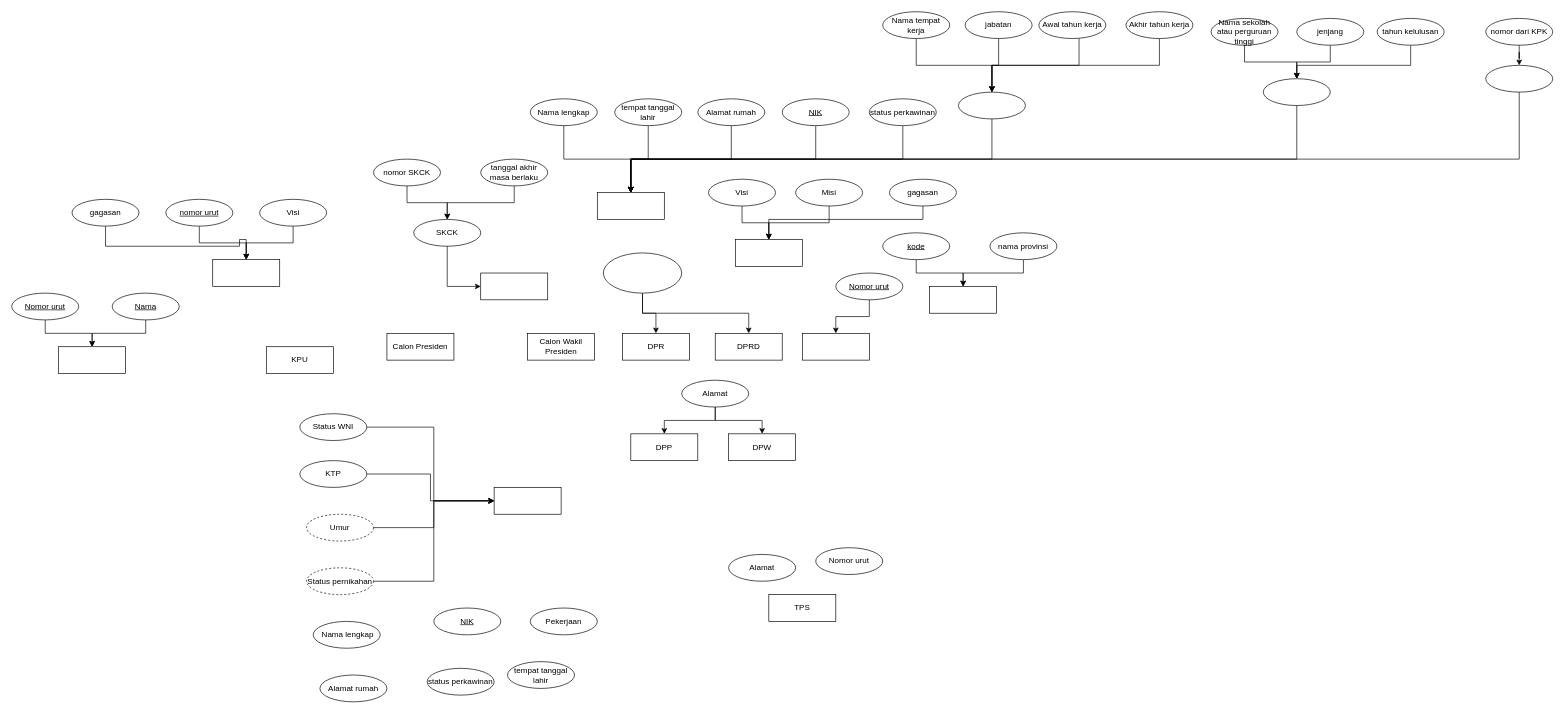
Some shapes in this 1564 by 714 pixel diagram are drawn without their labels. The centre of each missing label's shape, as x and y in pixels:
"Calon kandidat eksekutif" belongs at (514,286).
"Calon kandidat legislatif" belongs at (768,252).
"Dapil" belongs at (963,299).
"DPD" belongs at (835,346).
"Kandidat" belongs at (630,205).
"LHKPN" belongs at (1519,78).
"Partai Politik" belongs at (92,360).
"Paslon" belongs at (246,272).
"Pemilih" belongs at (527,500).
"riwayat pekerjaan" belongs at (991,105).
"riwayat pendidikan" belongs at (1296,92).
"Surat keterangan anggota partai politik" belongs at (642,272).
